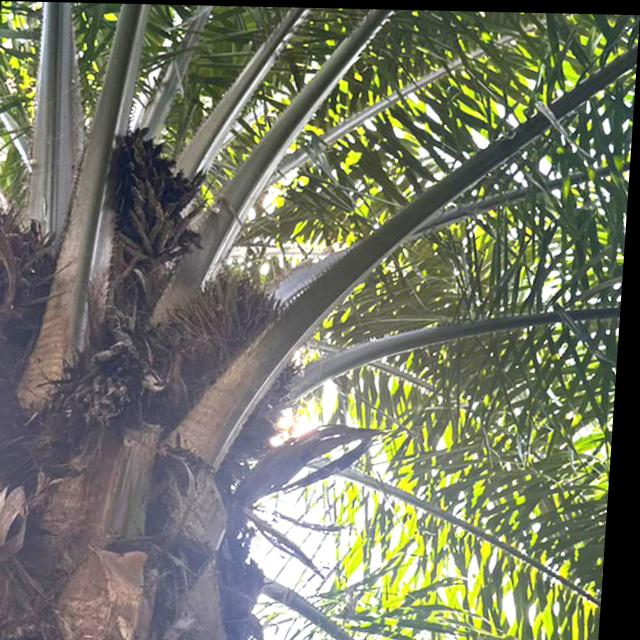unripe: (175, 266, 315, 455), (0, 181, 72, 412)
